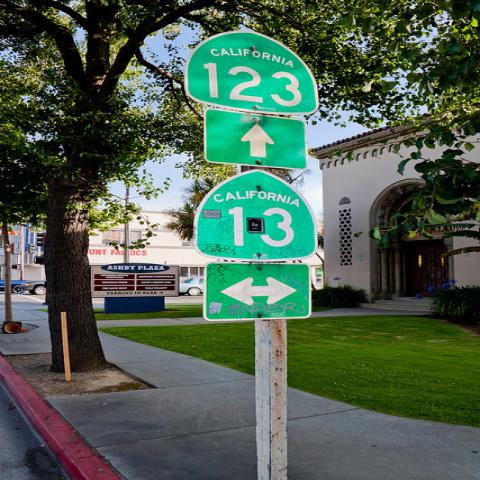car: (180, 276, 204, 296), (21, 279, 46, 296)
